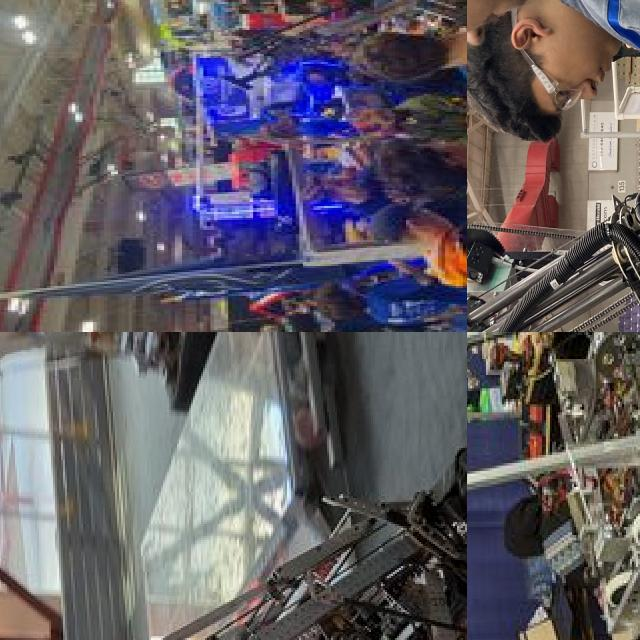FRC-Robots: (4, 372, 467, 640), (467, 332, 640, 640), (467, 40, 640, 332), (223, 0, 467, 124)
